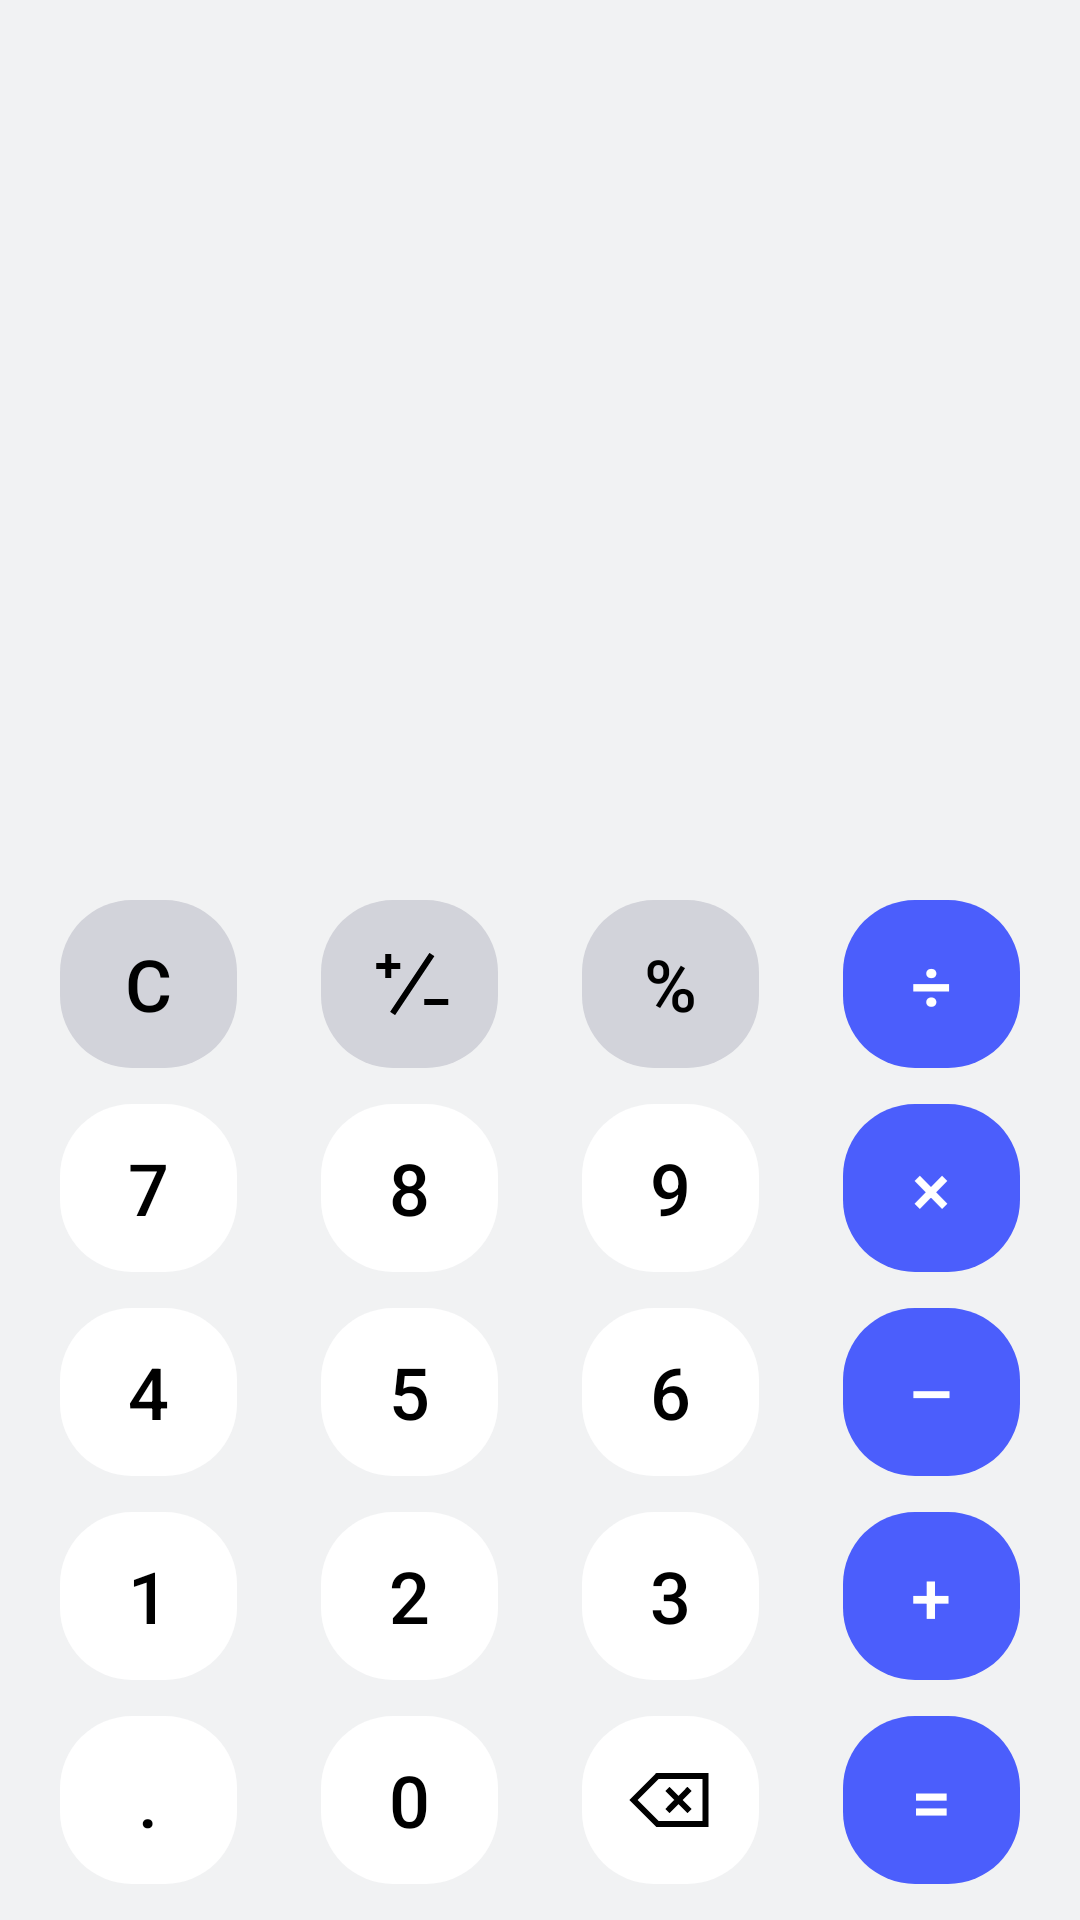

Icon bounding boxes for this 1080 x 1920 phone screenshot, format (left=x1, top=y1, right=x2, bottom=y2):
change sign: (left=321, top=900, right=498, bottom=1068)
erase: (left=582, top=1716, right=759, bottom=1884)
